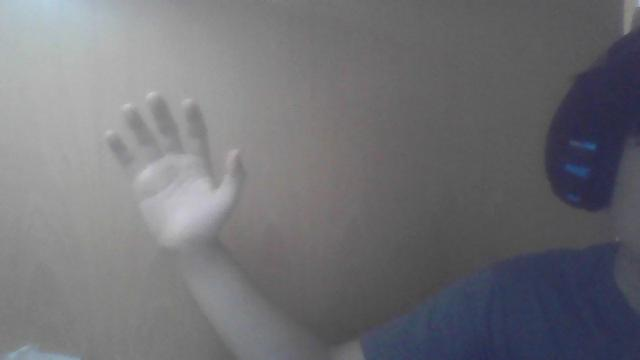Stop: (108, 98, 250, 244)
